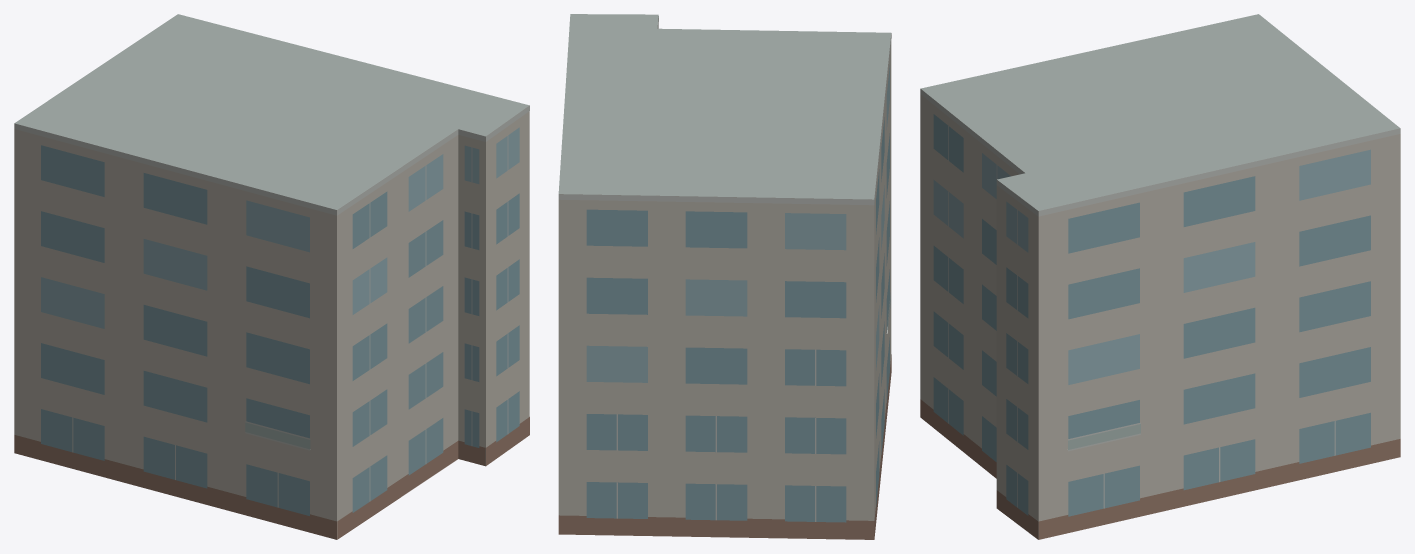
File: survey-upis-32834093.glb
The picture shows the model from 3 angles, left to right: view 1: azimuth 30°, elevation 25°; view 2: azimuth 150°, elevation 25°; view 3: azimuth 270°, elevation 25°; orthographic projection. The views are drawn at different scales.
Parts seen in each view (by area): view 1: survey-upis-32834093.tmp; view 2: survey-upis-32834093.tmp; view 3: survey-upis-32834093.tmp.
Boxes of the visible parts, x1=… form: survey-upis-32834093.tmp: x1=14, y1=14, x2=529, y2=539; survey-upis-32834093.tmp: x1=558, y1=14, x2=891, y2=539; survey-upis-32834093.tmp: x1=920, y1=14, x2=1400, y2=539.
Size of the model in its own units: 18.58 by 14.45 by 19.13.
